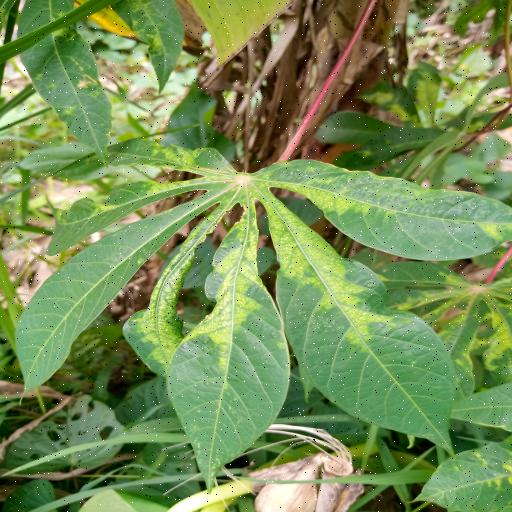Cassava_Mosaic: (15, 134, 512, 490)
